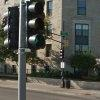Traffic light: (3, 3, 55, 56)
